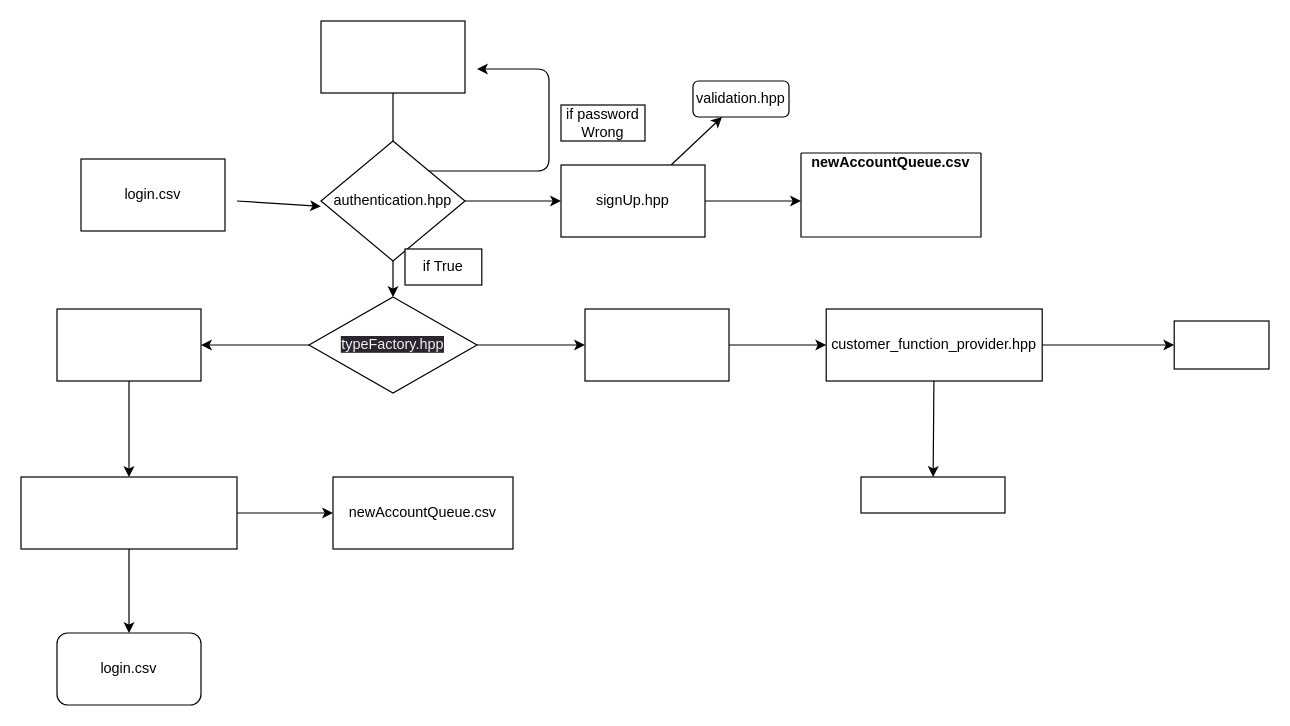
This 1290x726 diagram has some shape labels left out. The centre of each missing label's shape, as x and y in pixels:
"account.csv" belongs at (x=1221, y=344).
"customer.hpp" belongs at (x=656, y=344).
"main.cpp" belongs at (x=392, y=56).
"manager_function_provider.hpp" belongs at (x=128, y=512).
"manger.hpp" belongs at (x=128, y=344).
"transactions.csv" belongs at (x=932, y=494).
